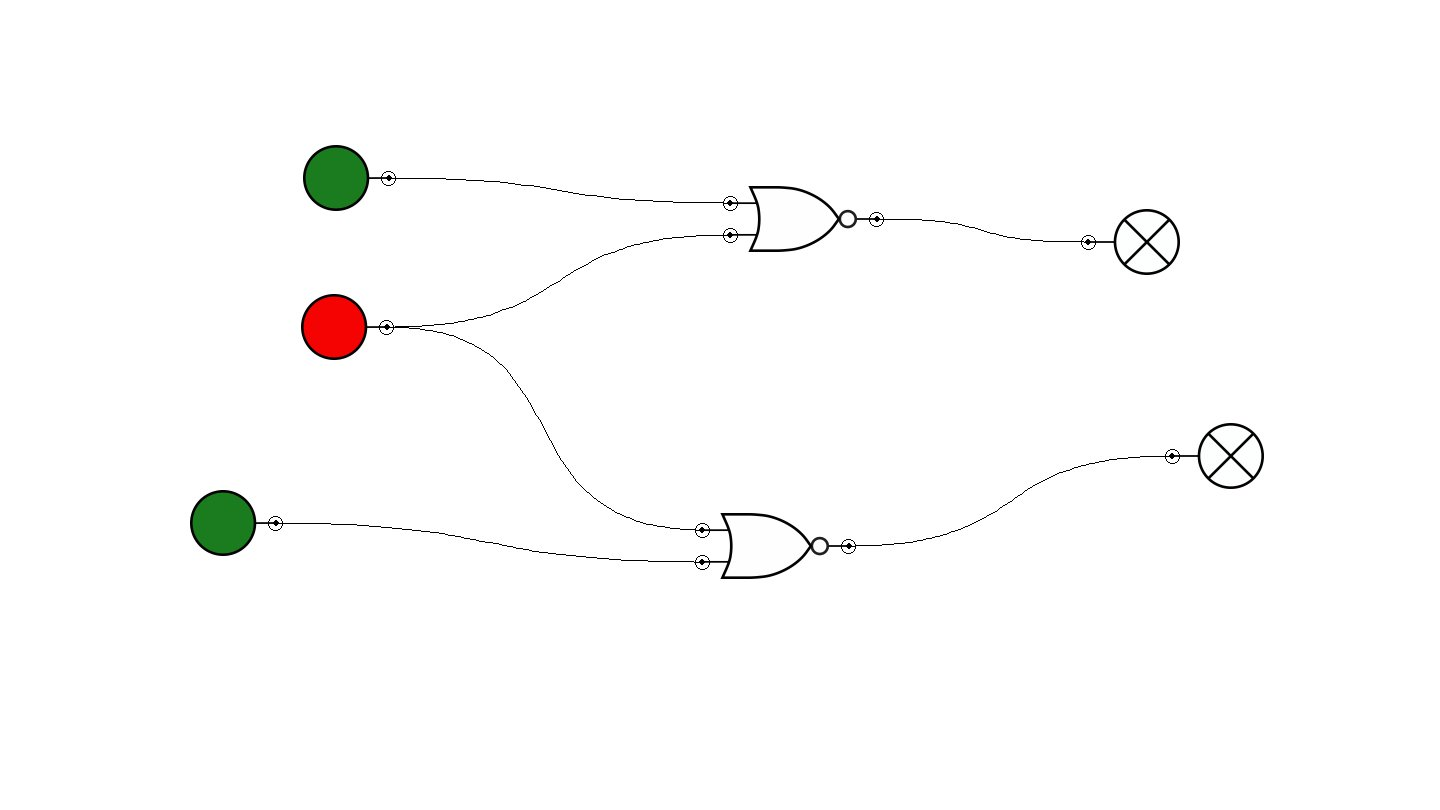bulb: (1165, 423, 1264, 489), (1081, 209, 1180, 275)
nor: (723, 186, 884, 252), (695, 513, 856, 579)
switch_False: (301, 294, 394, 360)
switch_True: (190, 490, 283, 556), (303, 145, 396, 211)
